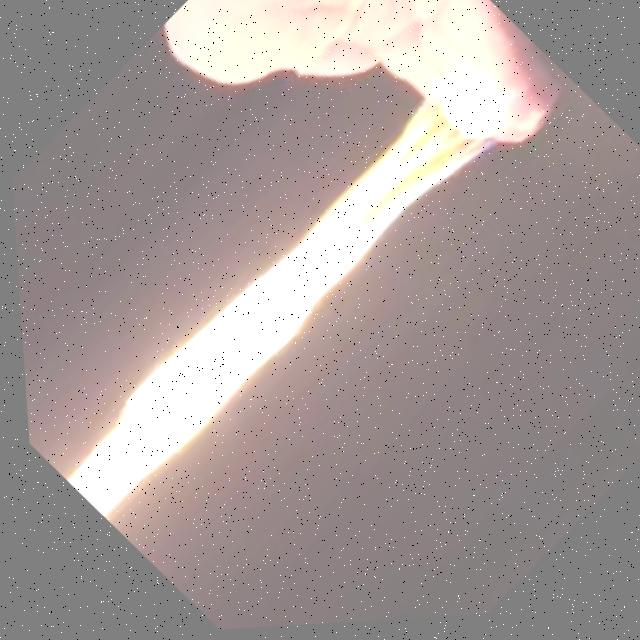Fire: (6, 27, 564, 549)
